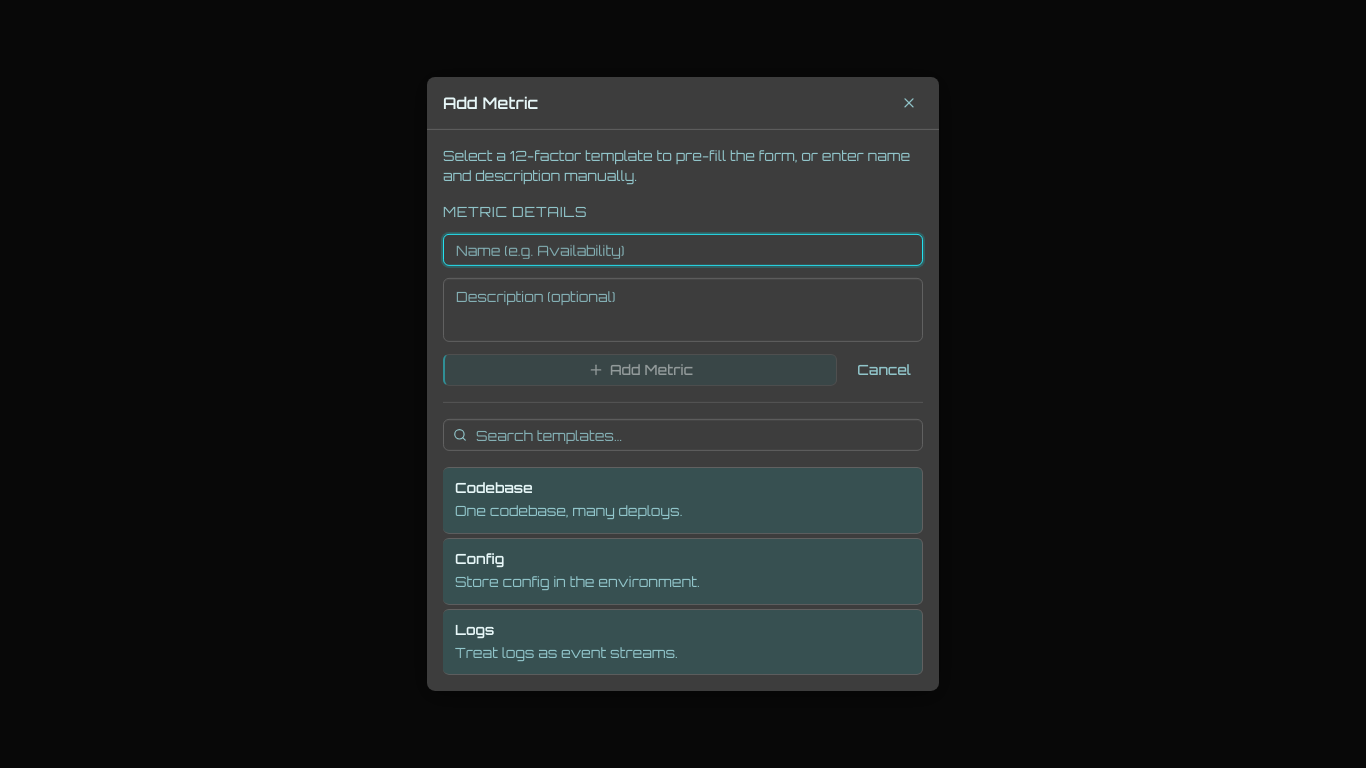
it: MetricTemplateSelector › shows "No templates match" when filter has no results
Expected: the text "Codebase" is shown, [455,479,533,496]
Type "zzznomatch" into the field with placeholder "Search templates…" at (683, 435), box [443,419,923,451]
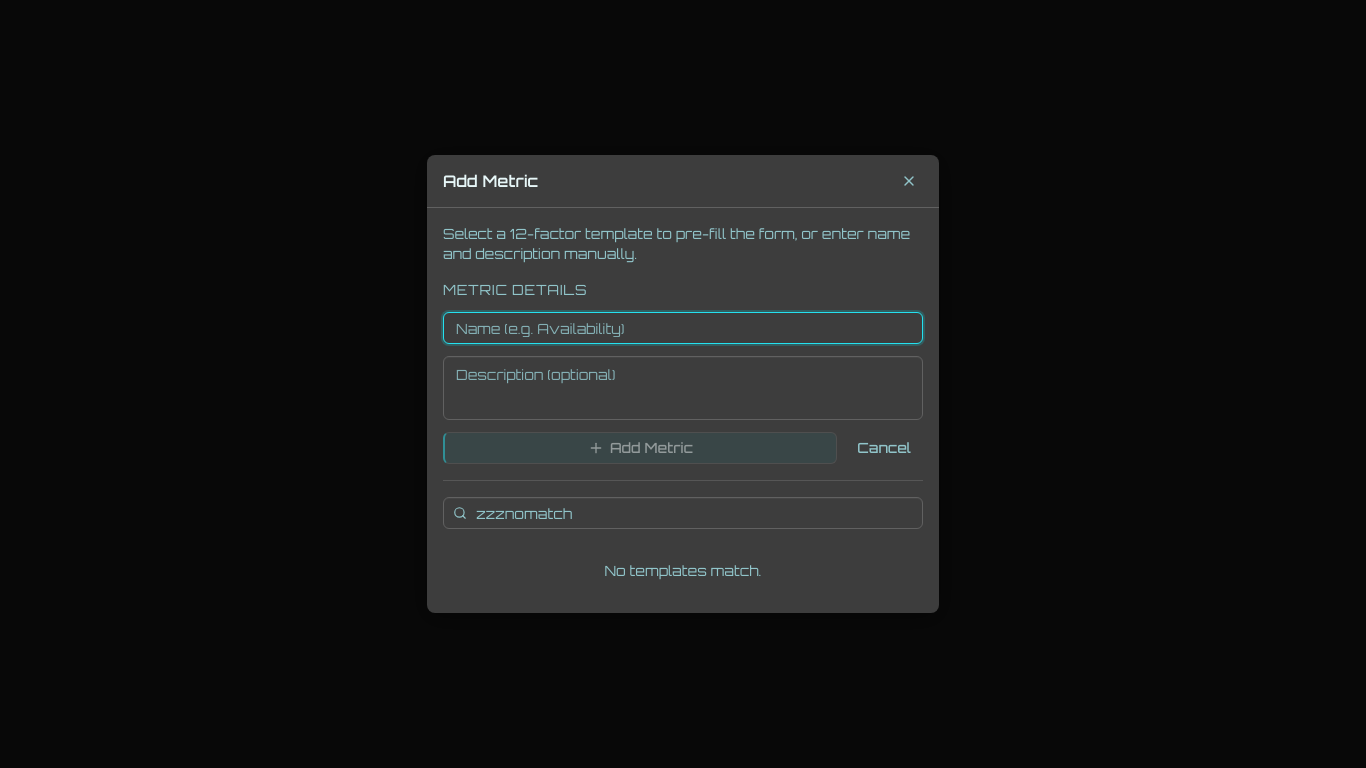
Expected: the text "No templates match." is shown, [604,562,762,579]
